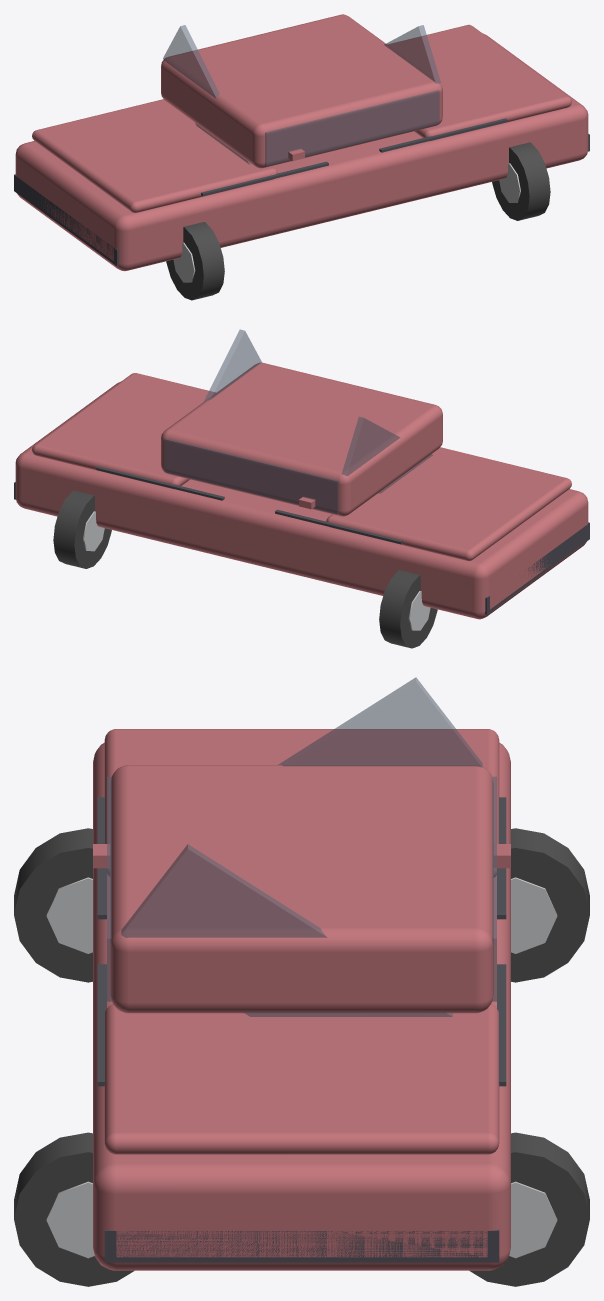
Rendered from sedan.glb.
3 views of the same model, one above another, from view 1: azimuth 30°, elevation 25°; view 2: azimuth 150°, elevation 25°; view 3: azimuth 270°, elevation 25° (orthographic). The views are drawn at different scales.
Visible parts, largest first — view 1: body_lower, roof, hood, trunk, window_l, tire_fl, tire_bl, windshield_front, front_bumper, windshield_rear, door_line_bl, door_line_fl (+2 smaller); view 2: body_lower, roof, hood, trunk, window_r, tire_fr, tire_br, windshield_front, windshield_rear, front_bumper, door_line_br, door_line_fr (+2 smaller); view 3: roof, trunk, body_lower, hood, windshield_rear, rear_bumper, windshield_front, tire_bl, tire_br, tire_fl, tire_fr, rim_bl (+9 smaller).
Boxes of the visible parts, x1=… form: body_lower: x1=15, y1=33, x2=588, y2=271; roof: x1=161, y1=14, x2=442, y2=168; hood: x1=32, y1=99, x2=277, y2=212; trunk: x1=387, y1=24, x2=571, y2=141; window_l: x1=265, y1=90, x2=439, y2=166; tire_fl: x1=166, y1=222, x2=224, y2=300; tire_bl: x1=492, y1=142, x2=550, y2=220; windshield_front: x1=163, y1=25, x2=251, y2=164; front_bumper: x1=14, y1=174, x2=119, y2=266; windshield_rear: x1=384, y1=25, x2=440, y2=83; door_line_bl: x1=379, y1=118, x2=507, y2=152; door_line_fl: x1=201, y1=161, x2=328, y2=196; body_lower: x1=15, y1=381, x2=588, y2=619; roof: x1=161, y1=362, x2=442, y2=516; hood: x1=326, y1=447, x2=571, y2=560; trunk: x1=32, y1=373, x2=215, y2=489; window_r: x1=164, y1=438, x2=338, y2=514; tire_fr: x1=379, y1=570, x2=437, y2=648; tire_br: x1=53, y1=490, x2=111, y2=568; windshield_front: x1=342, y1=417, x2=432, y2=493; windshield_rear: x1=204, y1=329, x2=261, y2=401; front_bumper: x1=484, y1=522, x2=589, y2=614; door_line_br: x1=96, y1=466, x2=224, y2=500; door_line_fr: x1=275, y1=509, x2=402, y2=544; roof: x1=110, y1=765, x2=493, y2=1013; trunk: x1=104, y1=1004, x2=499, y2=1154; body_lower: x1=93, y1=742, x2=510, y2=1270; hood: x1=104, y1=729, x2=499, y2=877; windshield_rear: x1=121, y1=844, x2=452, y2=1016; rear_bumper: x1=104, y1=1229, x2=499, y2=1262; windshield_front: x1=278, y1=677, x2=482, y2=767; tire_bl: x1=14, y1=1132, x2=134, y2=1286; tire_br: x1=469, y1=1132, x2=589, y2=1286; tire_fl: x1=14, y1=828, x2=92, y2=982; tire_fr: x1=511, y1=828, x2=589, y2=982; rim_bl: x1=46, y1=1181, x2=94, y2=1258.
Size of the model in its own units: 4.5 by 1.72 by 2.48.
